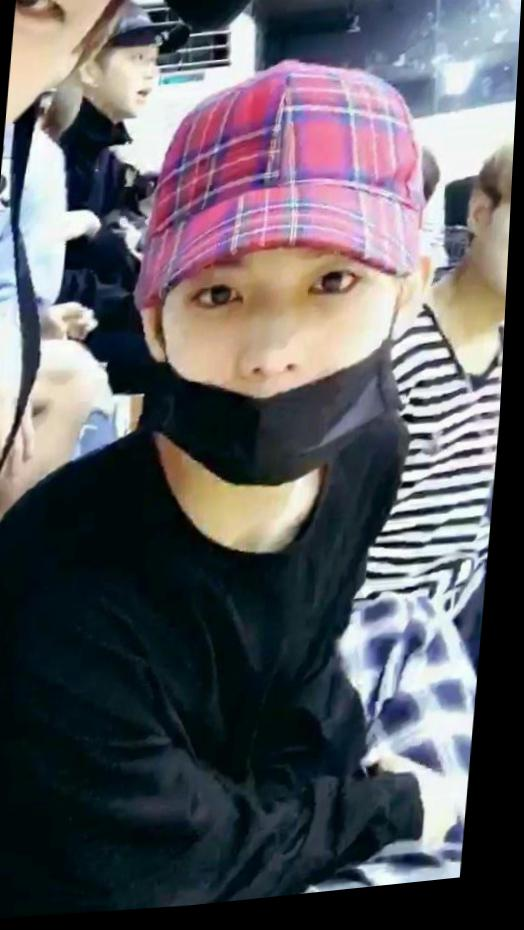NONE: (95, 46, 167, 131)
WRONG: (149, 219, 420, 487)
